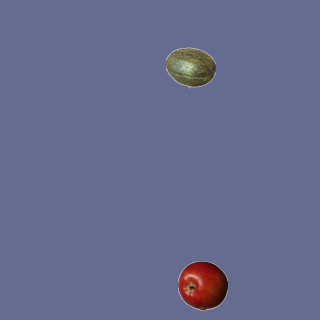Apple Braeburn: (177, 260, 227, 310)
Melon Piel de Sapo: (165, 42, 215, 92)
